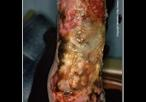NonPU: (49, 0, 104, 102)
